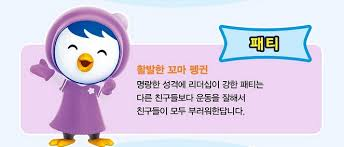Petty: (28, 5, 133, 147)
